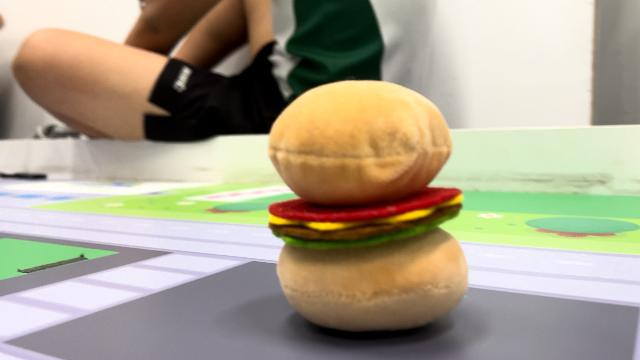burger: (259, 74, 475, 334)
